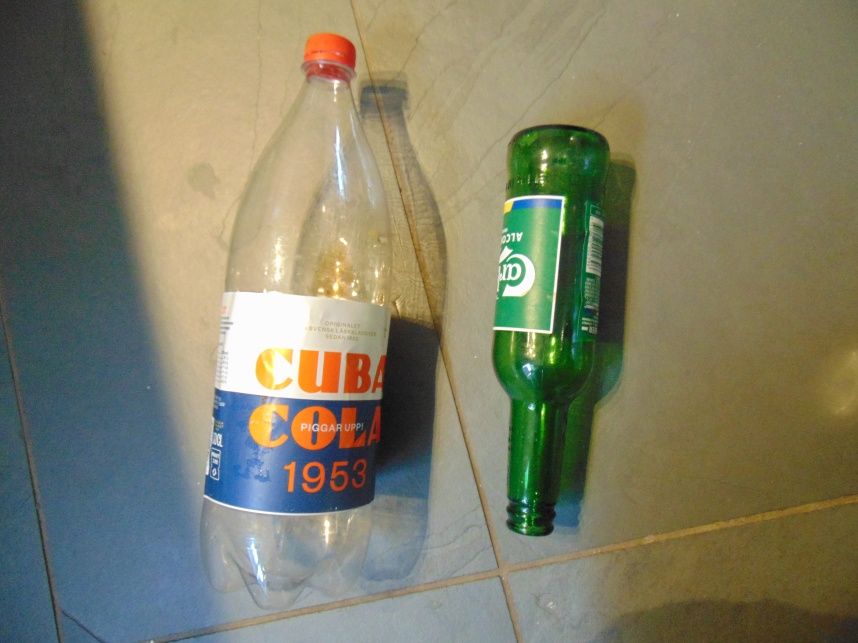glass_bottle: (490, 124, 610, 538)
plastic_bottle: (200, 32, 393, 612)
